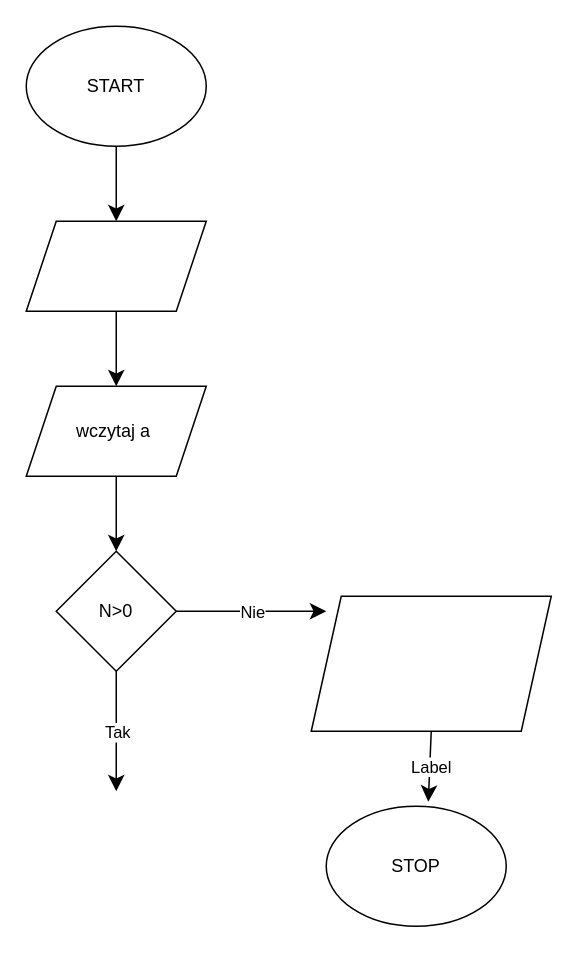
The diagram is 578 pixels wide and 953 high, and some of its shapes have lost their labels. The shapes that lost their labels are listed below. From the top down, each one's centre as x and y in pixels, then its label:
At (x=115, y=265): "wczytaj n".
At (x=430, y=663): "Wypisz: N musi być większe od 0".
